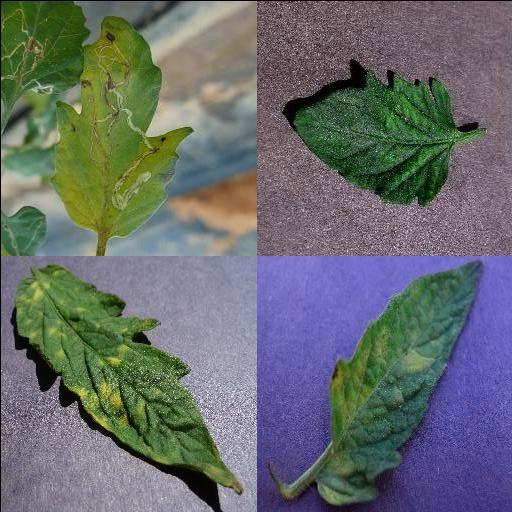Leaf Miner: (48, 15, 194, 237)
Leaf Mold: (14, 264, 242, 496), (312, 260, 482, 506)
Mosaic Virus: (290, 69, 456, 207)
